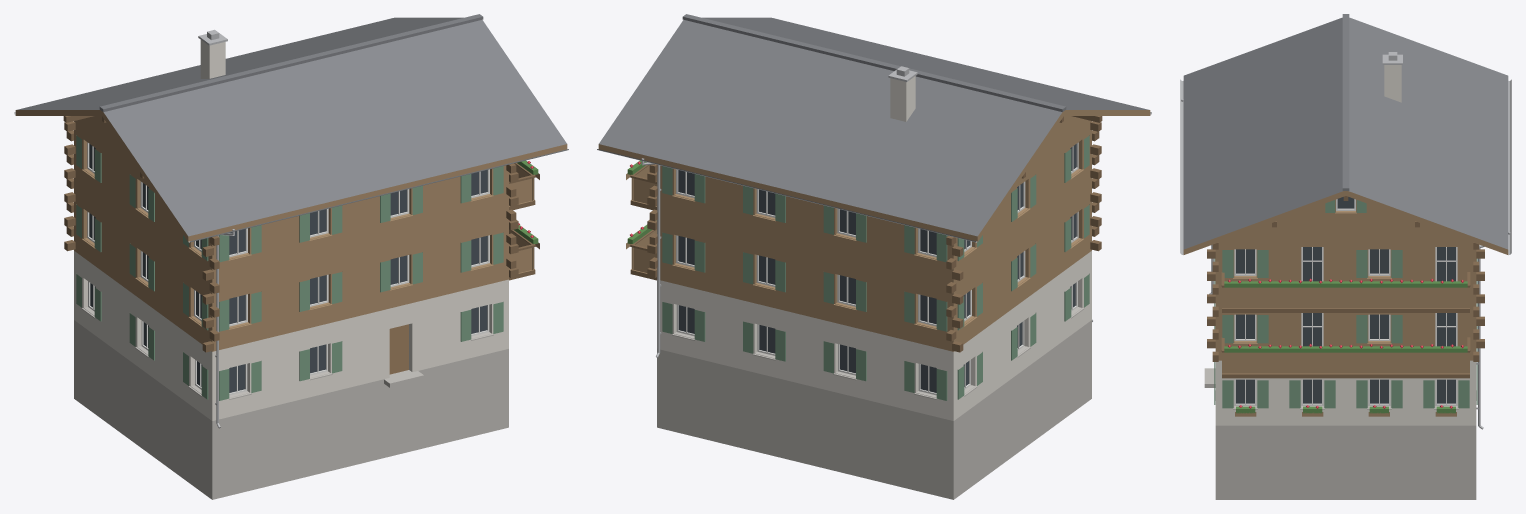
Rendered from chalet_3_m.glb.
3 views of the same model, side by side, from view 1: azimuth 30°, elevation 25°; view 2: azimuth 150°, elevation 25°; view 3: azimuth 270°, elevation 25° (orthographic). The views are drawn at different scales.
Visible parts, largest first — view 1: chalet_3_m; view 2: chalet_3_m; view 3: chalet_3_m.
Boxes of the visible parts, <box> form: chalet_3_m: <box>14,14,568,499</box>; chalet_3_m: <box>597,14,1151,499</box>; chalet_3_m: <box>1180,14,1511,499</box>.
Size of the model in its own units: 16.64 by 15.72 by 13.35.
